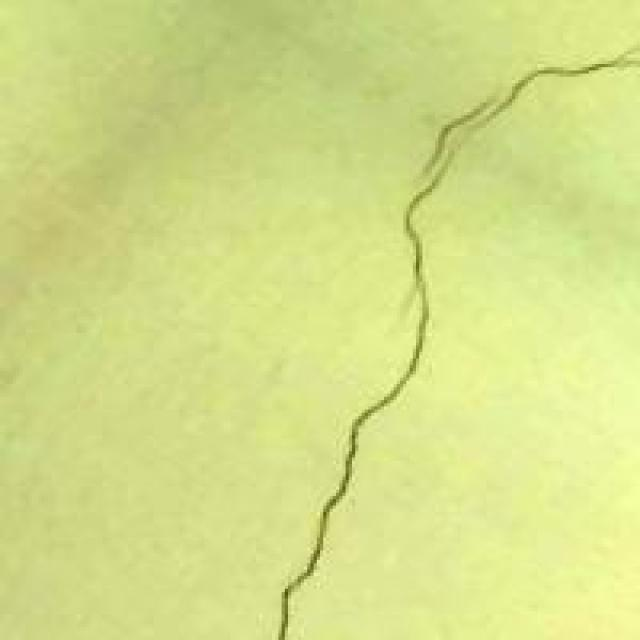Crack: (253, 38, 637, 636)
